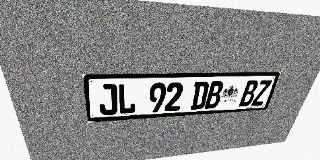2: (164, 82, 184, 111)
9: (148, 82, 167, 113)
B: (204, 81, 225, 109), (239, 80, 259, 107)
D: (190, 81, 210, 110)
J: (97, 84, 118, 116)
L: (117, 83, 136, 114)
Z: (251, 80, 272, 106)
